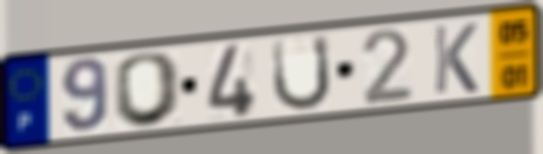2: (358, 26, 416, 109)
4: (204, 40, 259, 122)
9: (58, 54, 110, 137)
K: (431, 20, 481, 97)
O: (111, 49, 185, 130)
U: (270, 32, 334, 115)
